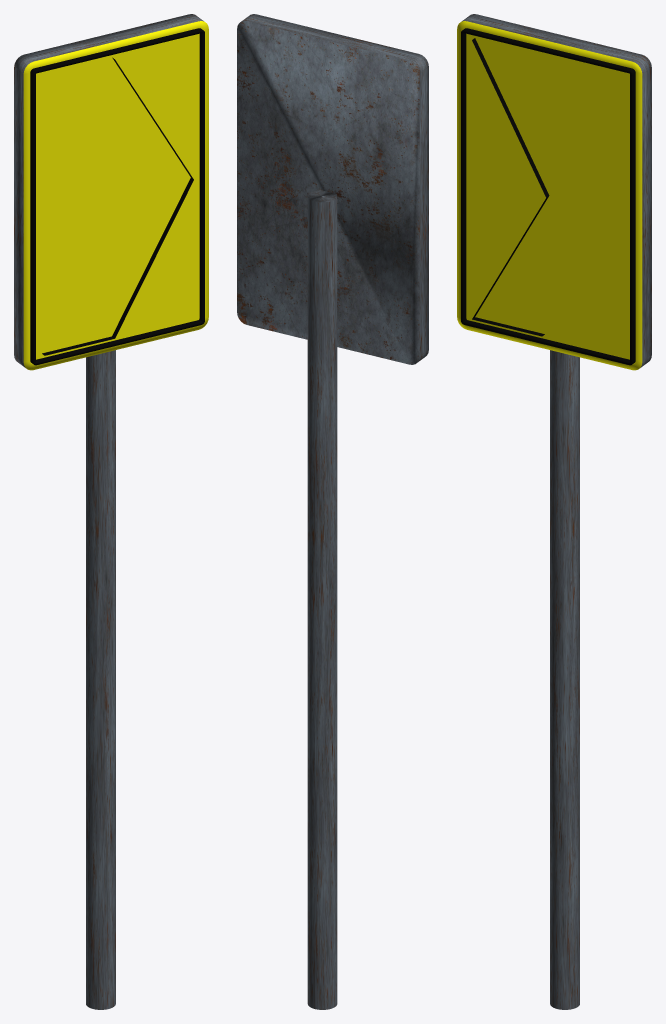
The model's file is Arrow sign right.fbx.
3 views of the same model, side by side, from view 1: azimuth 30°, elevation 25°; view 2: azimuth 150°, elevation 25°; view 3: azimuth 330°, elevation 25° (orthographic).
Parts seen in each view (by area): view 1: pngarah kanan, tiang.003, Plane; view 2: pngarah kanan, tiang.003; view 3: pngarah kanan, tiang.003, Plane.
Part boxes in pixels (<box>): pngarah kanan: <box>14,14,208,370</box>; tiang.003: <box>86,350,115,1009</box>; Plane: <box>42,57,193,355</box>; pngarah kanan: <box>237,14,428,364</box>; tiang.003: <box>307,190,337,1009</box>; pngarah kanan: <box>457,14,651,370</box>; tiang.003: <box>550,350,579,1009</box>; Plane: <box>472,38,549,336</box>.
Size of the model in its own units: 200 by 1003 by 48.75.
Materials: 3 (1 with a texture image).
